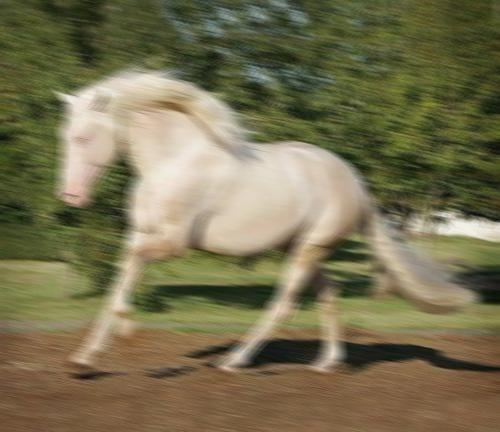horse: (52, 61, 480, 376)
